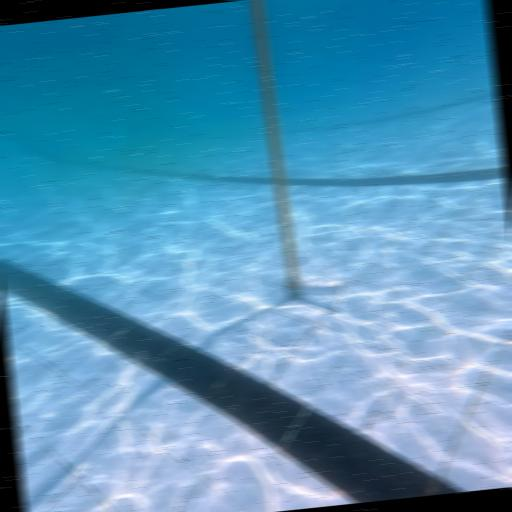pole_gate: (250, 0, 300, 293)
